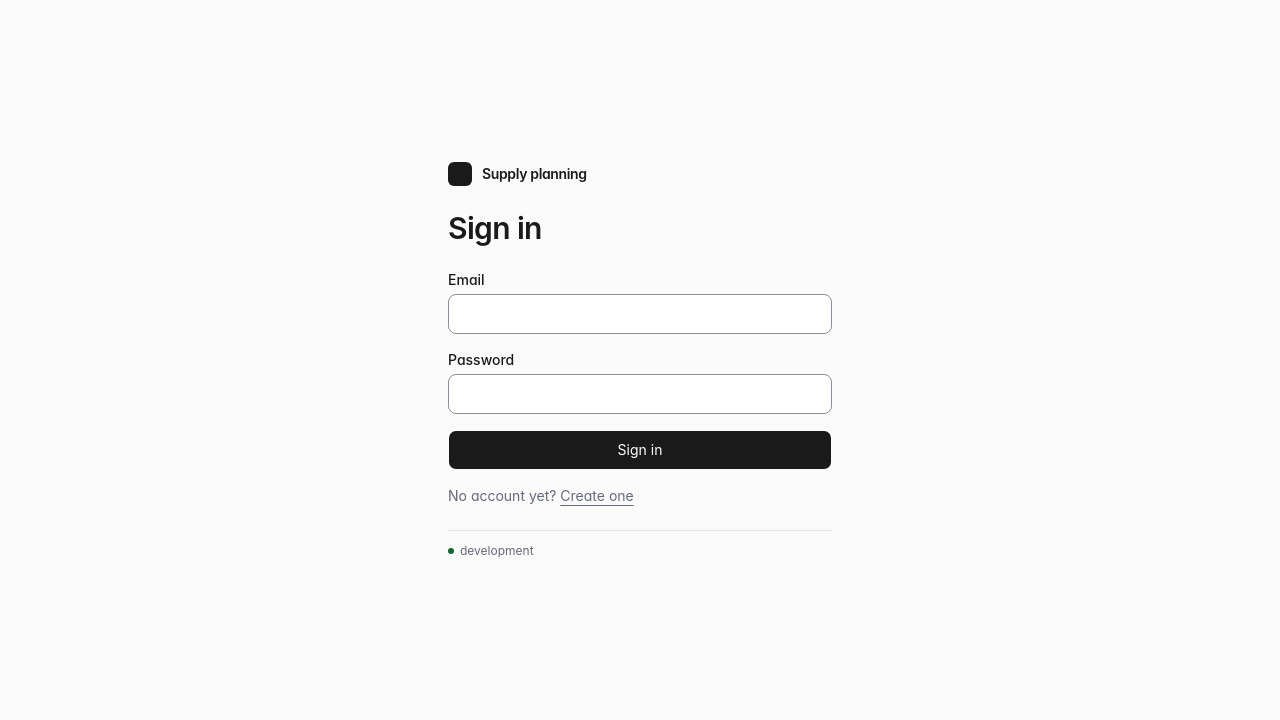
Test: the sign-in gate › signs in and lands on the page that was originally requested
Type "maintainer@example.com" into the field labelled "Email" at [640, 314], box [448,294,832,334]
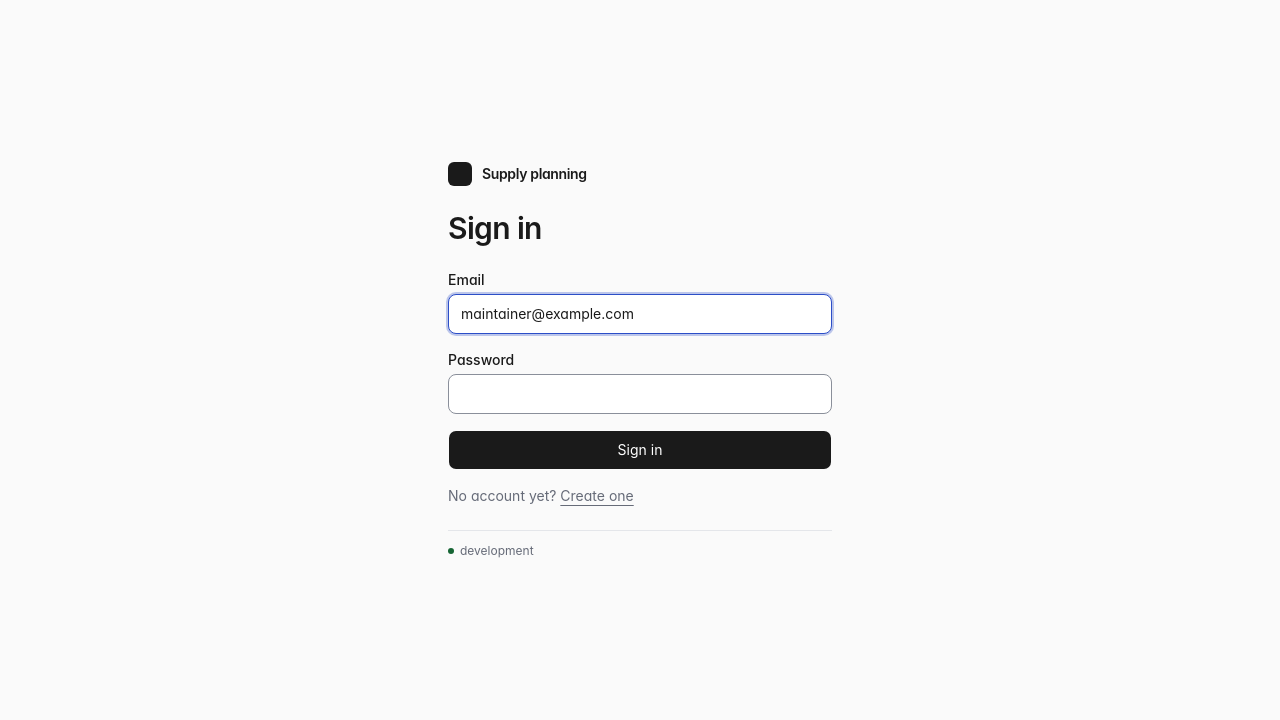
Type "correct horse" into the password field labelled "Password" at [640, 394], box [448,374,832,414]
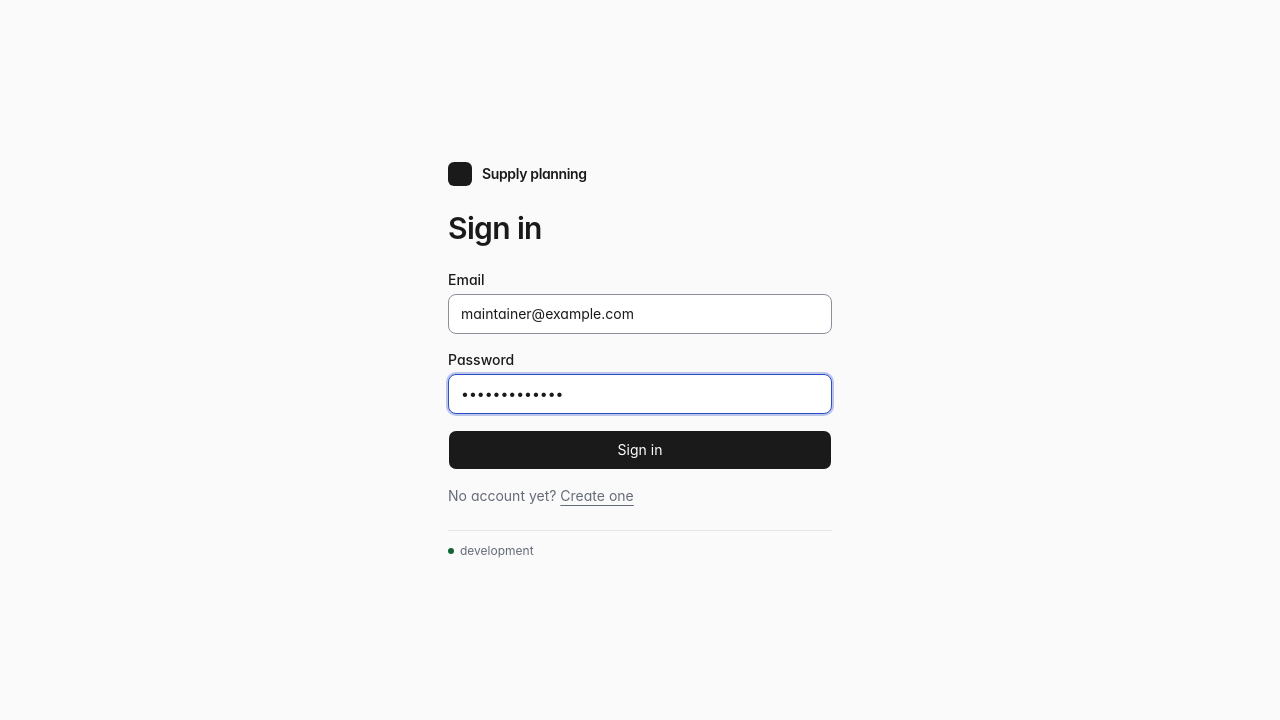
Click the button "Sign in" at [640, 450], box [448,430,832,470]
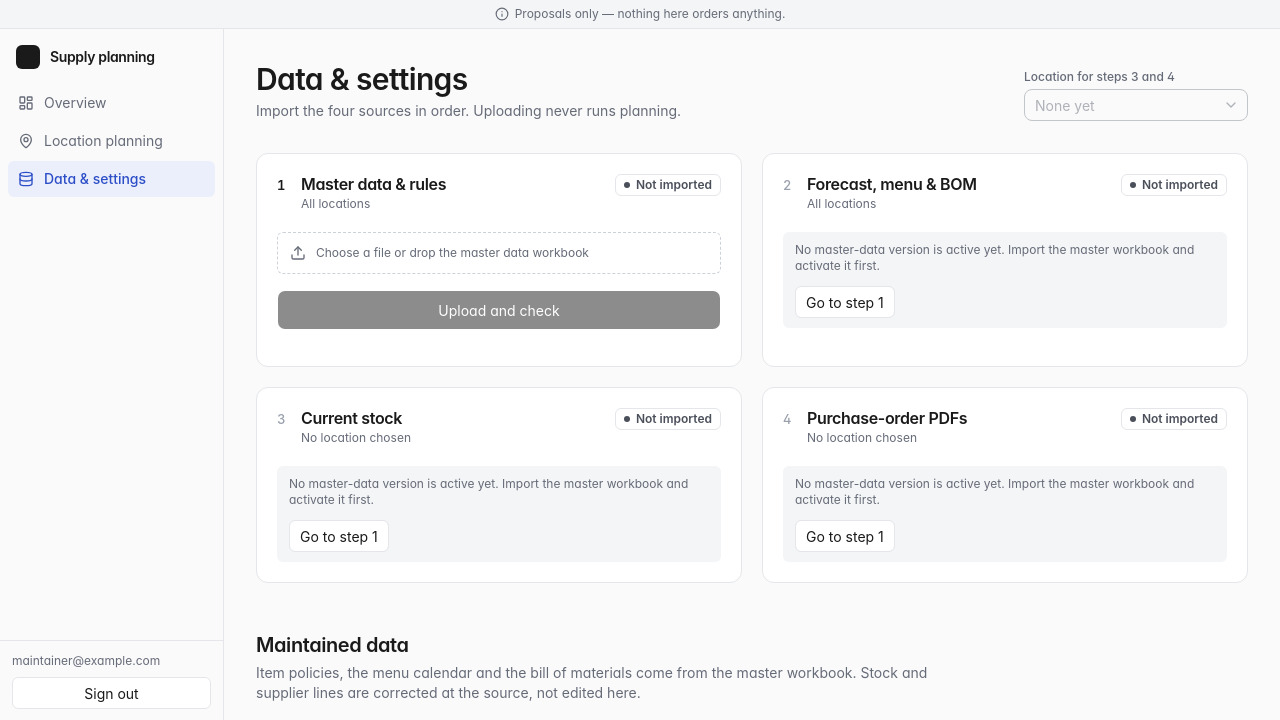
Expected: the heading "Data & settings" is shown, [256,61,468,97]
